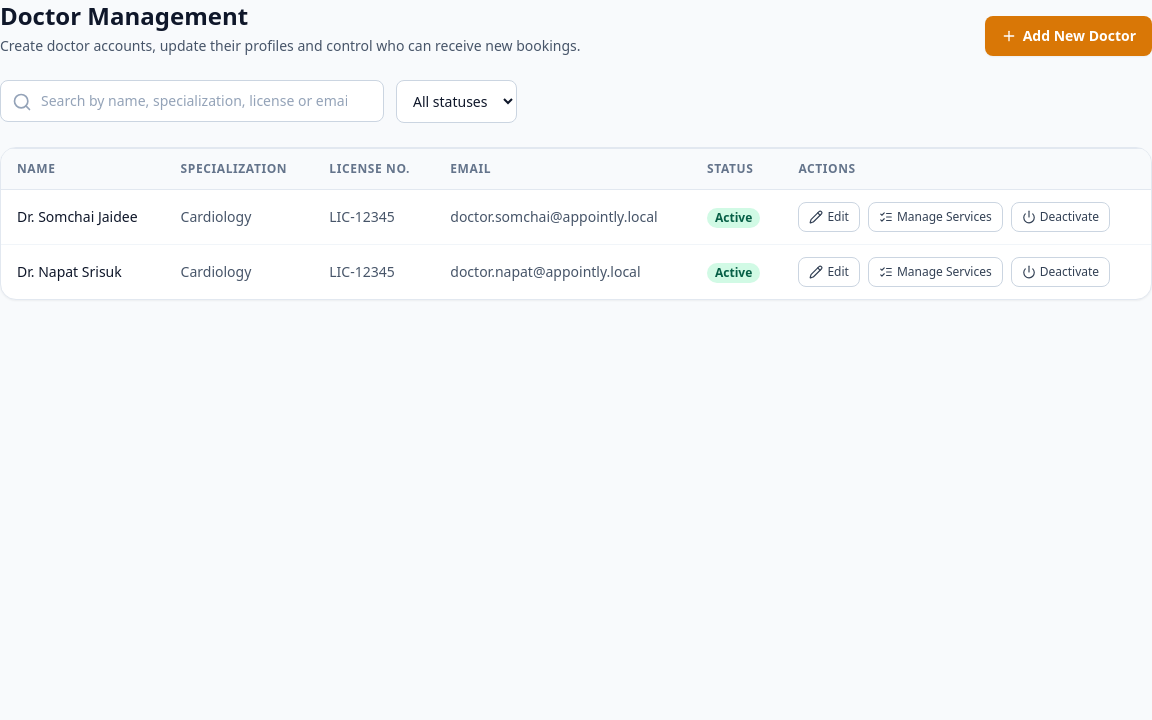
Test: Admin Doctor-Service Assignment (/admin/doctors → Manage Services) › reads the doctor's current assignments fresh from the API
expect the table is shown: met, box [1,148,1151,299]
Click the button with aria-label "Manage services for Dr. Somchai Jaidee": (935,217) [868,202,1003,232]
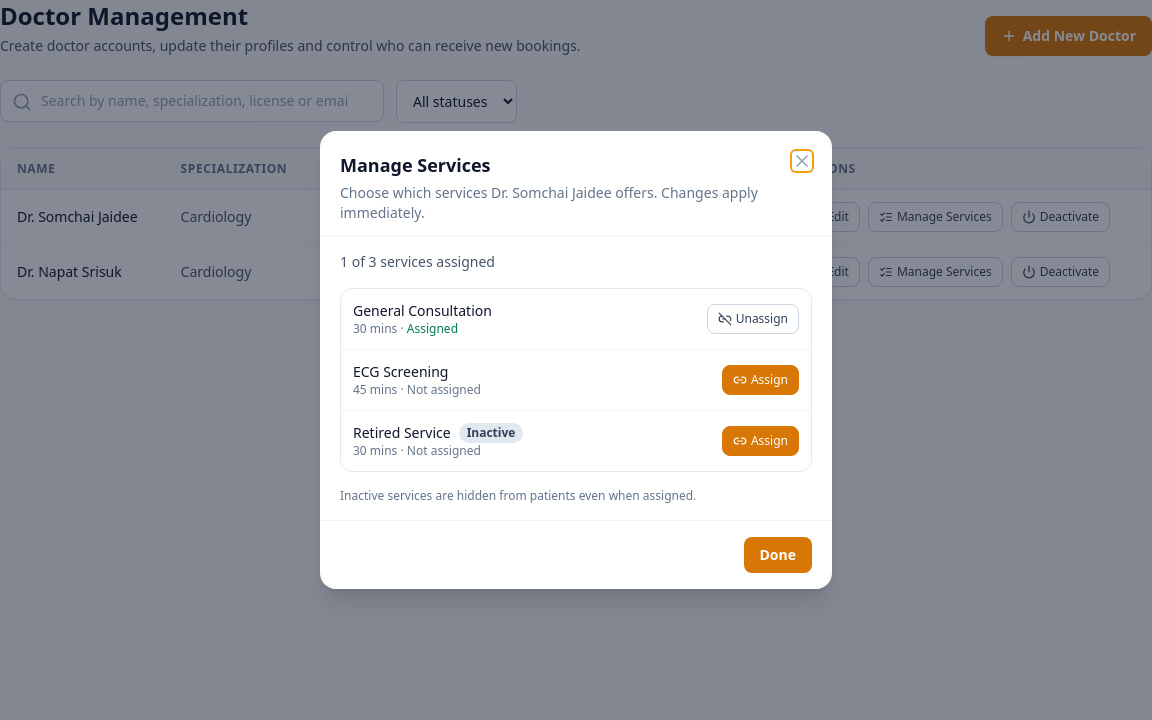
expect the list named "Clinic services" is shown: met, box [340,288,812,472]
